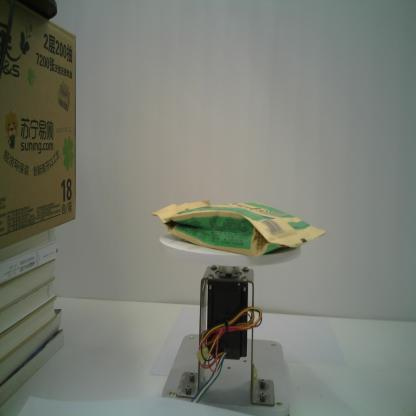Dried Food: (145, 194, 330, 260)
